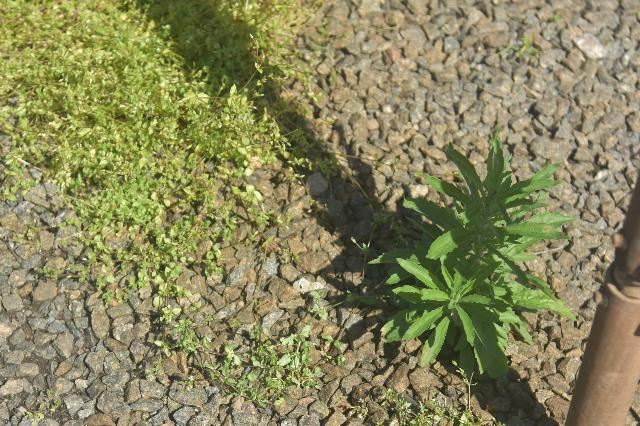MalezaMontesDelPlata: (365, 117, 582, 375), (131, 2, 319, 228), (0, 0, 132, 189), (138, 318, 334, 412)
